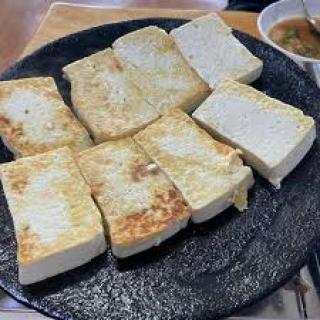Tahu: (2, 23, 316, 280)
